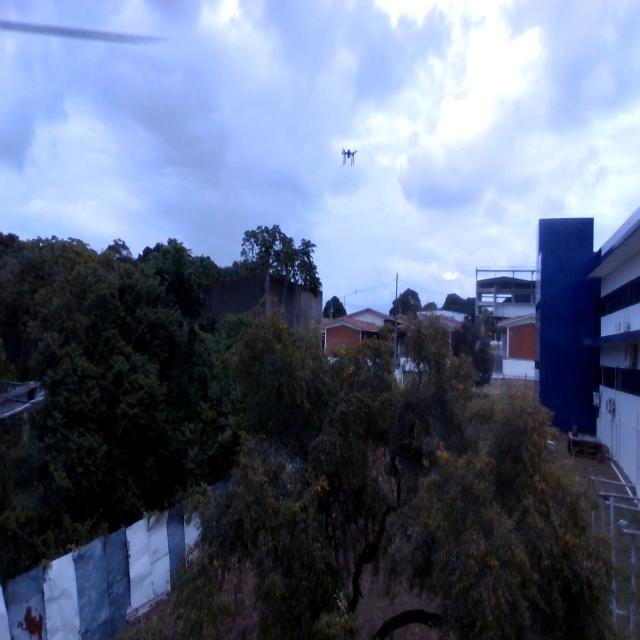-uav-: (338, 142, 358, 172)
